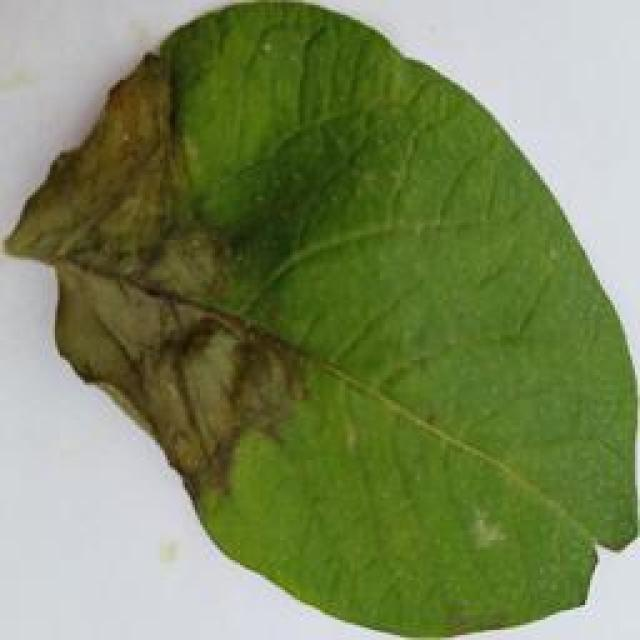Potato_Late_Blight: (12, 5, 624, 640)
